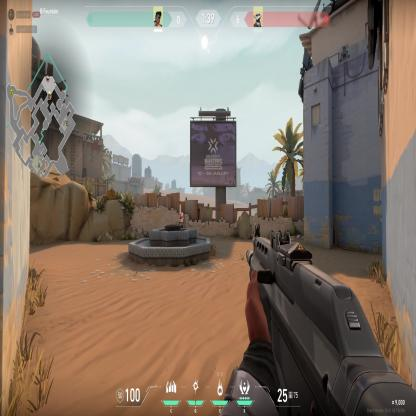enemy: (179, 212, 184, 227)
